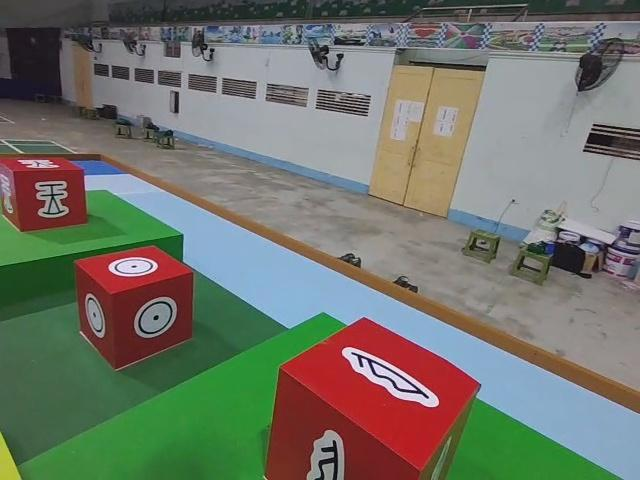R2 Real: (264, 314, 482, 480), (73, 242, 196, 371), (0, 151, 89, 233)
